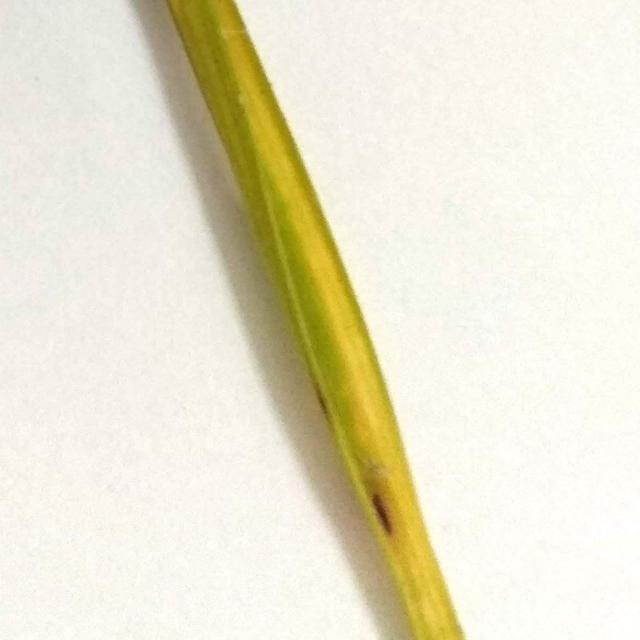Brown spot: (364, 474, 412, 546), (303, 375, 348, 429)
